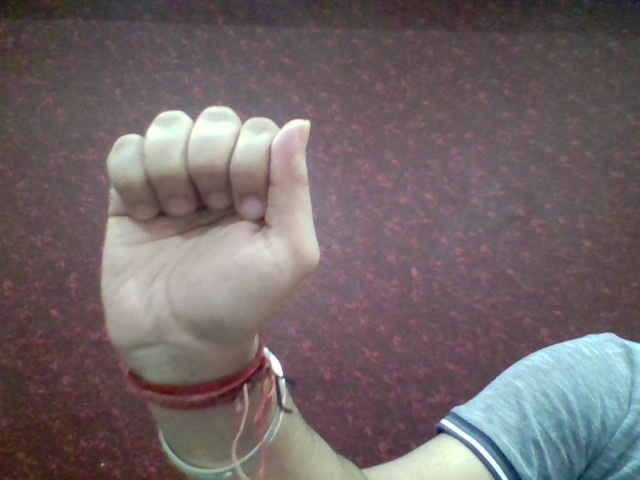a: (87, 96, 327, 383)
